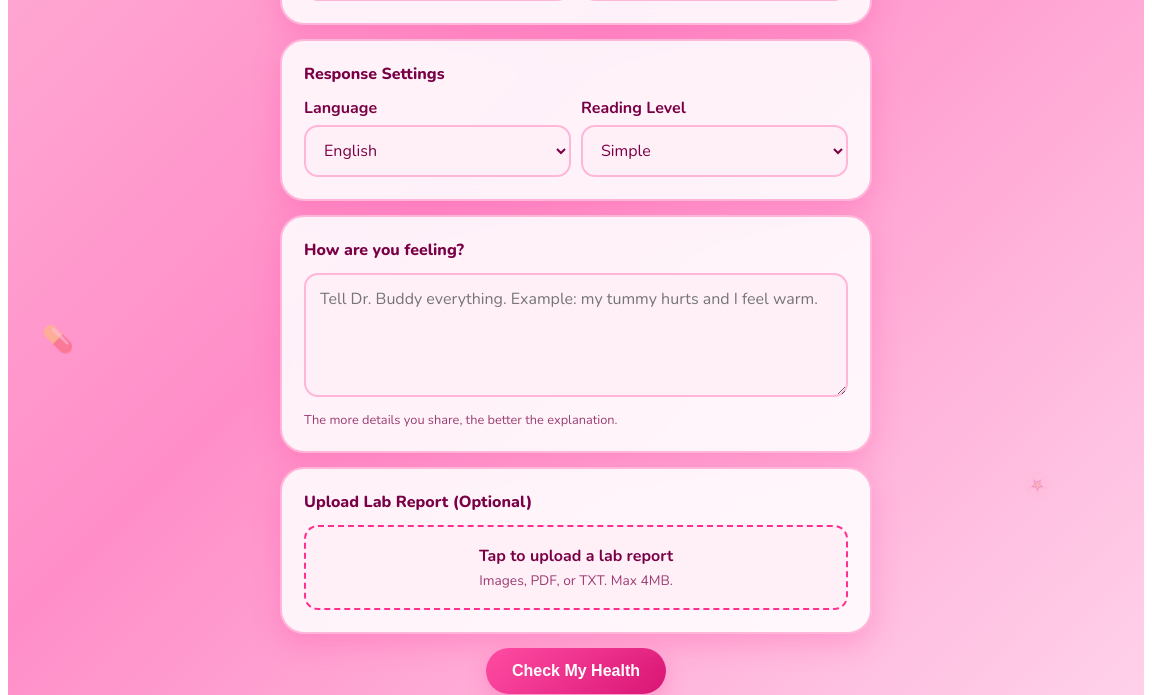
Test case: App › shows triage warning when API returns emergency level
(page scrolled)
Type "Cannot breathe well" into the text box with placeholder "Tell Dr. Buddy everything".
click(576, 335); type("Cannot breathe well")  # box [304,273,848,397]
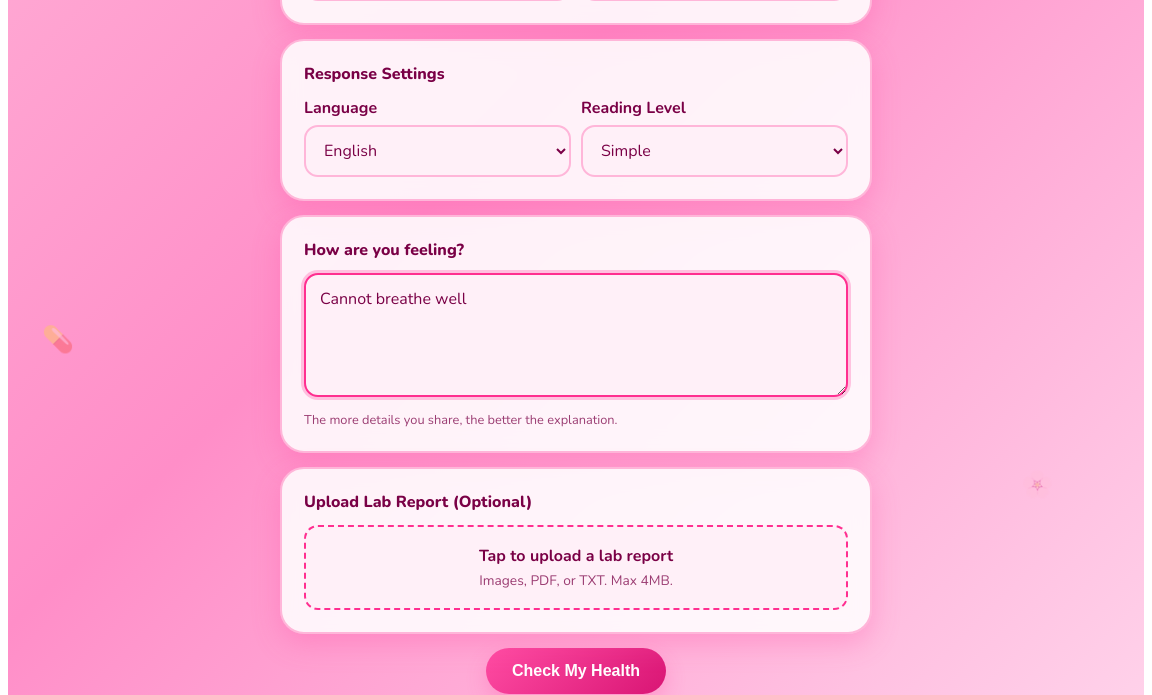
Click the button "Check My Health".
click(576, 671)  # box [486,648,666,694]
(page scrolled)
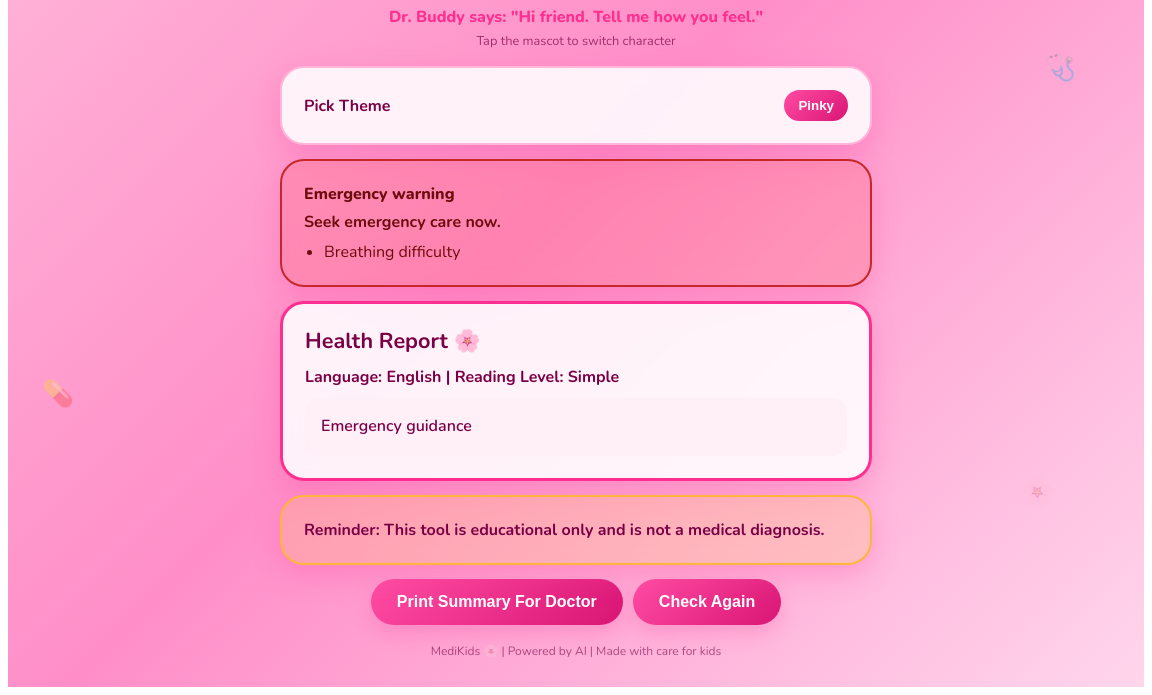
Now the text "Emergency warning" is shown, box [304,183,454,205]
Now the list item "Breathing difficulty" is shown, box [324,241,460,263]
